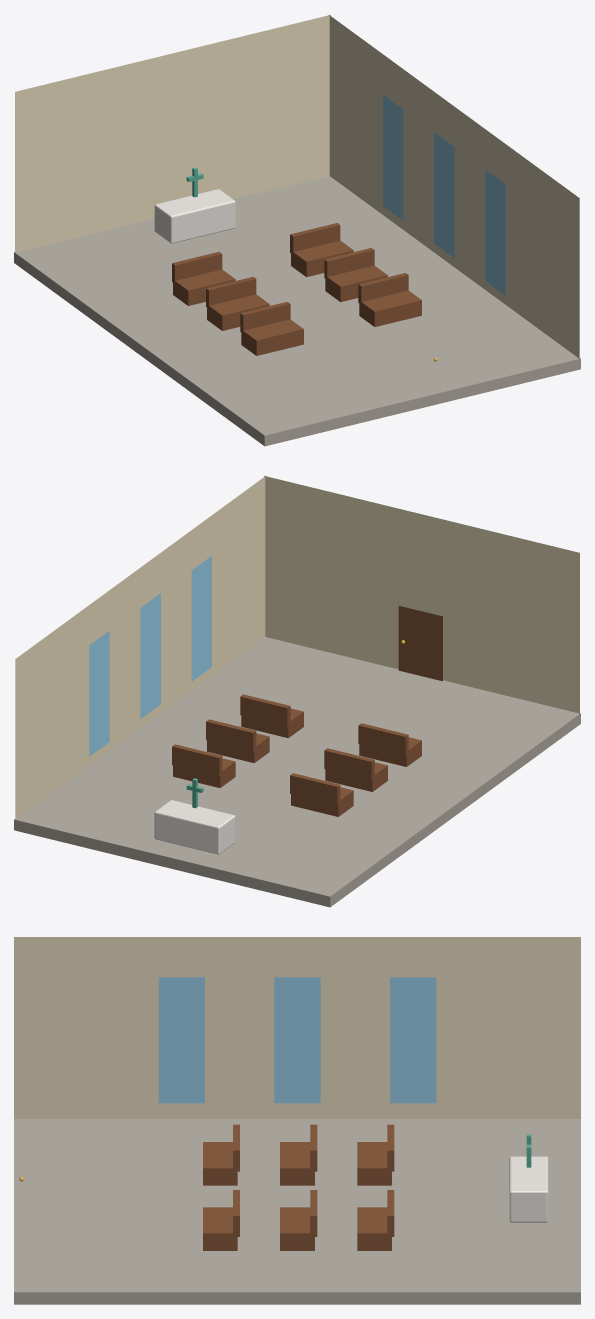
The model's file is room_frauenkirche.glb.
3 views of the same model, one above another, from view 1: azimuth 30°, elevation 25°; view 2: azimuth 150°, elevation 25°; view 3: azimuth 270°, elevation 25° (orthographic). The views are drawn at different scales.
Visible parts, largest first — view 1: RoomF; view 2: RoomF; view 3: RoomF.
Part boxes in pixels (x1,y1,x2,y2): RoomF: (14,15,580,446); RoomF: (14,476,580,907); RoomF: (14,937,580,1304).
Size of the model in its own units: 10.7 by 5.55 by 14.7.
